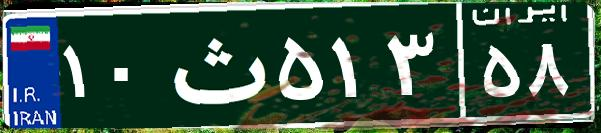0: (110, 28, 158, 105)
1: (330, 28, 385, 110), (57, 26, 110, 107)
3: (385, 28, 445, 110)
5: (273, 28, 330, 110), (475, 38, 525, 113)
8: (525, 38, 570, 115)
ث: (158, 15, 273, 115)
